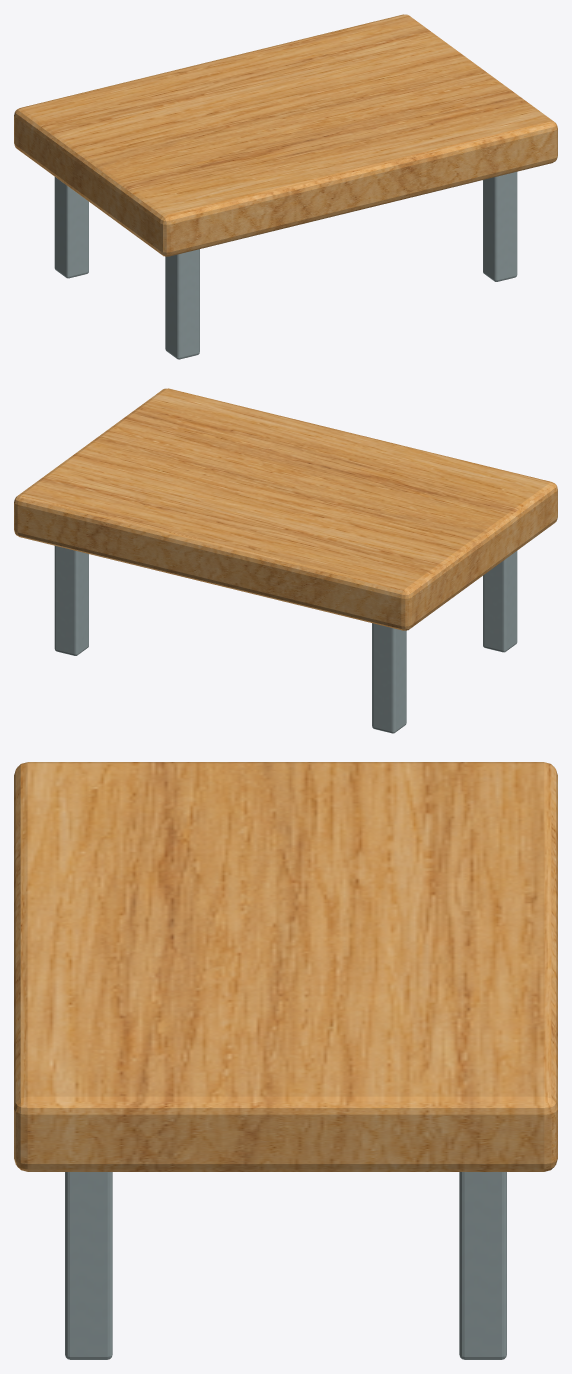
The model's file is platform.glb.
3 renders of one model, top to bottom at view 1: azimuth 30°, elevation 25°; view 2: azimuth 150°, elevation 25°; view 3: azimuth 270°, elevation 25°, orthographic. The views are drawn at different scales.
Parts seen in each view (by area): view 1: Platform_Top, Platform_Leg.002, Platform_Leg, Platform_Leg.001; view 2: Platform_Top, Platform_Leg.003, Platform_Leg.001, Platform_Leg; view 3: Platform_Top, Platform_Leg.002, Platform_Leg.003.
Boxes of the visible parts, box(x1,y1,x2,y2) form: Platform_Top: box(14, 14, 557, 256); Platform_Leg.002: box(483, 172, 517, 281); Platform_Leg: box(165, 249, 199, 359); Platform_Leg.001: box(54, 177, 88, 278); Platform_Top: box(14, 388, 557, 630); Platform_Leg.003: box(54, 546, 88, 655); Platform_Leg.001: box(372, 623, 406, 733); Platform_Leg: box(483, 551, 517, 652); Platform_Top: box(14, 762, 557, 1171); Platform_Leg.002: box(65, 1172, 112, 1359); Platform_Leg.003: box(459, 1172, 506, 1359).
Size of the model in its own units: 2.4 by 0.92 by 1.6.
Materials: 2 (2 with a texture image).
